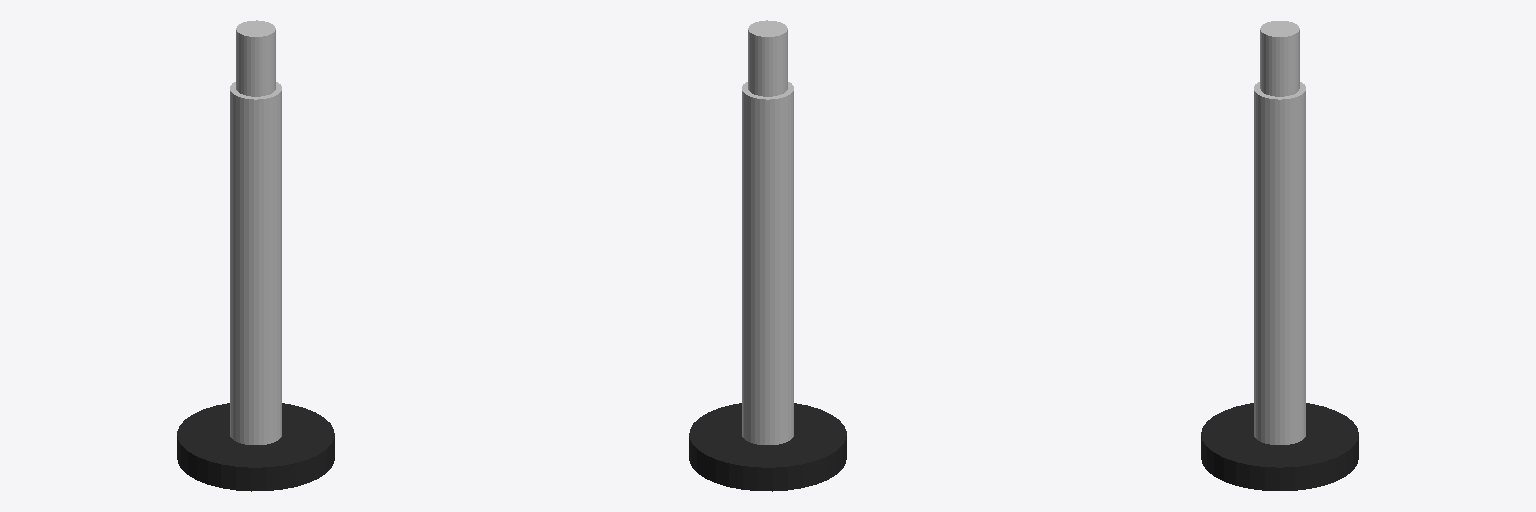
The robot description file, URDF, robot "combine":
<?xml version="1.0"?>
<robot name="combine">
  <!-- link -->
  <link name="main_base">
    <visual>
      <origin xyz="0 0 0"/>
      <geometry>
        <cylinder length="0.2" radius="0.6"/>
      </geometry>
      <material name="grey">
        <color rgba="0.2 0.2 0.2 1.0"/>
      </material>
    </visual>
  </link>

  <link name="stick1">
    <visual>
      <origin xyz="0 0 0.5"/>
      <geometry>
        <cylinder length="1" radius="0.2"/>
      </geometry>
      <material name="white">
        <color rgba="0.8 0.8 0.8 1.0"/>
      </material>
    </visual>
  </link>

  <link name="stick2">
    <visual>
      <origin xyz="0 0 0.5"/>
      <geometry>
        <cylinder length="1" radius="0.2"/>
      </geometry>
      <material name="white">
        <color rgba="0.8 0.8 0.8 1.0"/>
      </material>
    </visual>
  </link>

  <link name="stick3">
    <visual>
      <origin xyz="0 0 0.5"/>
      <geometry>
        <cylinder length="1" radius="0.2"/>
      </geometry>
      <material name="white">
        <color rgba="0.8 0.8 0.8 1.0"/>
      </material>
    </visual>
  </link>
  
  <link name="stick4">
    <visual>
      <origin xyz="0 0 0.5"/>
      <geometry>
        <cylinder length="1" radius="0.15"/>
      </geometry>
      <material name="white">
        <color rgba="0.8 0.8 0.8 1.0"/>
      </material>
    </visual>
  </link>

  <!-- joint -->
  <joint name="M1_A0" type="revolute">
    <origin xyz="0.0 0.0 0.0" rpy="0.0 0.0 0.0"/>
    <parent link="main_base"/>
    <child link="stick1"/>
    <limit lower="-3.14" upper="3.14" effort="1000" velocity="0"/>
    <axis xyz="0 0 1"/>
  </joint>
  <joint name="S1_A0" type="revolute">
    <origin xyz="0.0 0.0 1" rpy="0.0 0.0 0.0"/>
    <parent link="stick1"/>
    <child link="stick2"/>
    <limit lower="-1.57" upper="1.57" effort="1000" velocity="5.0"/>
    <axis xyz="1 0 0"/>
  </joint>
  <joint name="S2_A0" type="revolute">
    <origin xyz="0.0 0.0 1" rpy="0.0 0.0 0.0"/>
    <parent link="stick2"/>
    <child link="stick3"/>
    <limit lower="-1.57" upper="1.57" effort="1000" velocity="5.0"/>
    <axis xyz="1 0 0"/>
  </joint>
  <joint name="S3_A0" type="prismatic">
    <origin xyz="0.0 0.0 0.5" rpy="0.0 0.0 0.0"/>
    <parent link="stick3"/>
    <child link="stick4"/>
    <limit lower="-0.5" upper="0.5" effort="1000" velocity="5.0"/>
    <axis xyz="0 0 1"/>
  </joint>
</robot>

--- Render facts (derived) ---
The picture shows the robot from 3 angles, left to right: view 1: azimuth 30°, elevation 25°; view 2: azimuth 150°, elevation 25°; view 3: azimuth 270°, elevation 25°; orthographic projection.
Robot: combine — 5 links, 4 joints (3 revolute, 1 prismatic); root link main_base; default pose: every joint at zero.
Links seen in each view (by area): view 1: main_base, stick3, stick2, stick1, stick4; view 2: main_base, stick3, stick2, stick1, stick4; view 3: main_base, stick3, stick2, stick1, stick4.
Boxes of the visible links, x1,y1,x2,y2 form: main_base: (177,403,334,491); stick3: (230,82,281,218); stick2: (230,210,281,337); stick1: (230,330,281,444); stick4: (236,20,275,96); main_base: (689,403,846,491); stick3: (742,82,793,218); stick2: (742,210,793,337); stick1: (742,330,793,444); stick4: (748,20,787,96); main_base: (1201,403,1358,490); stick3: (1254,82,1305,218); stick2: (1254,210,1305,337); stick1: (1254,330,1305,444); stick4: (1260,21,1299,96).
Bounding box of the posed robot: 1.2 × 1.2 × 3.6 m (x, y, z).
Geometry: primitives only (box / cylinder / sphere), no mesh files.